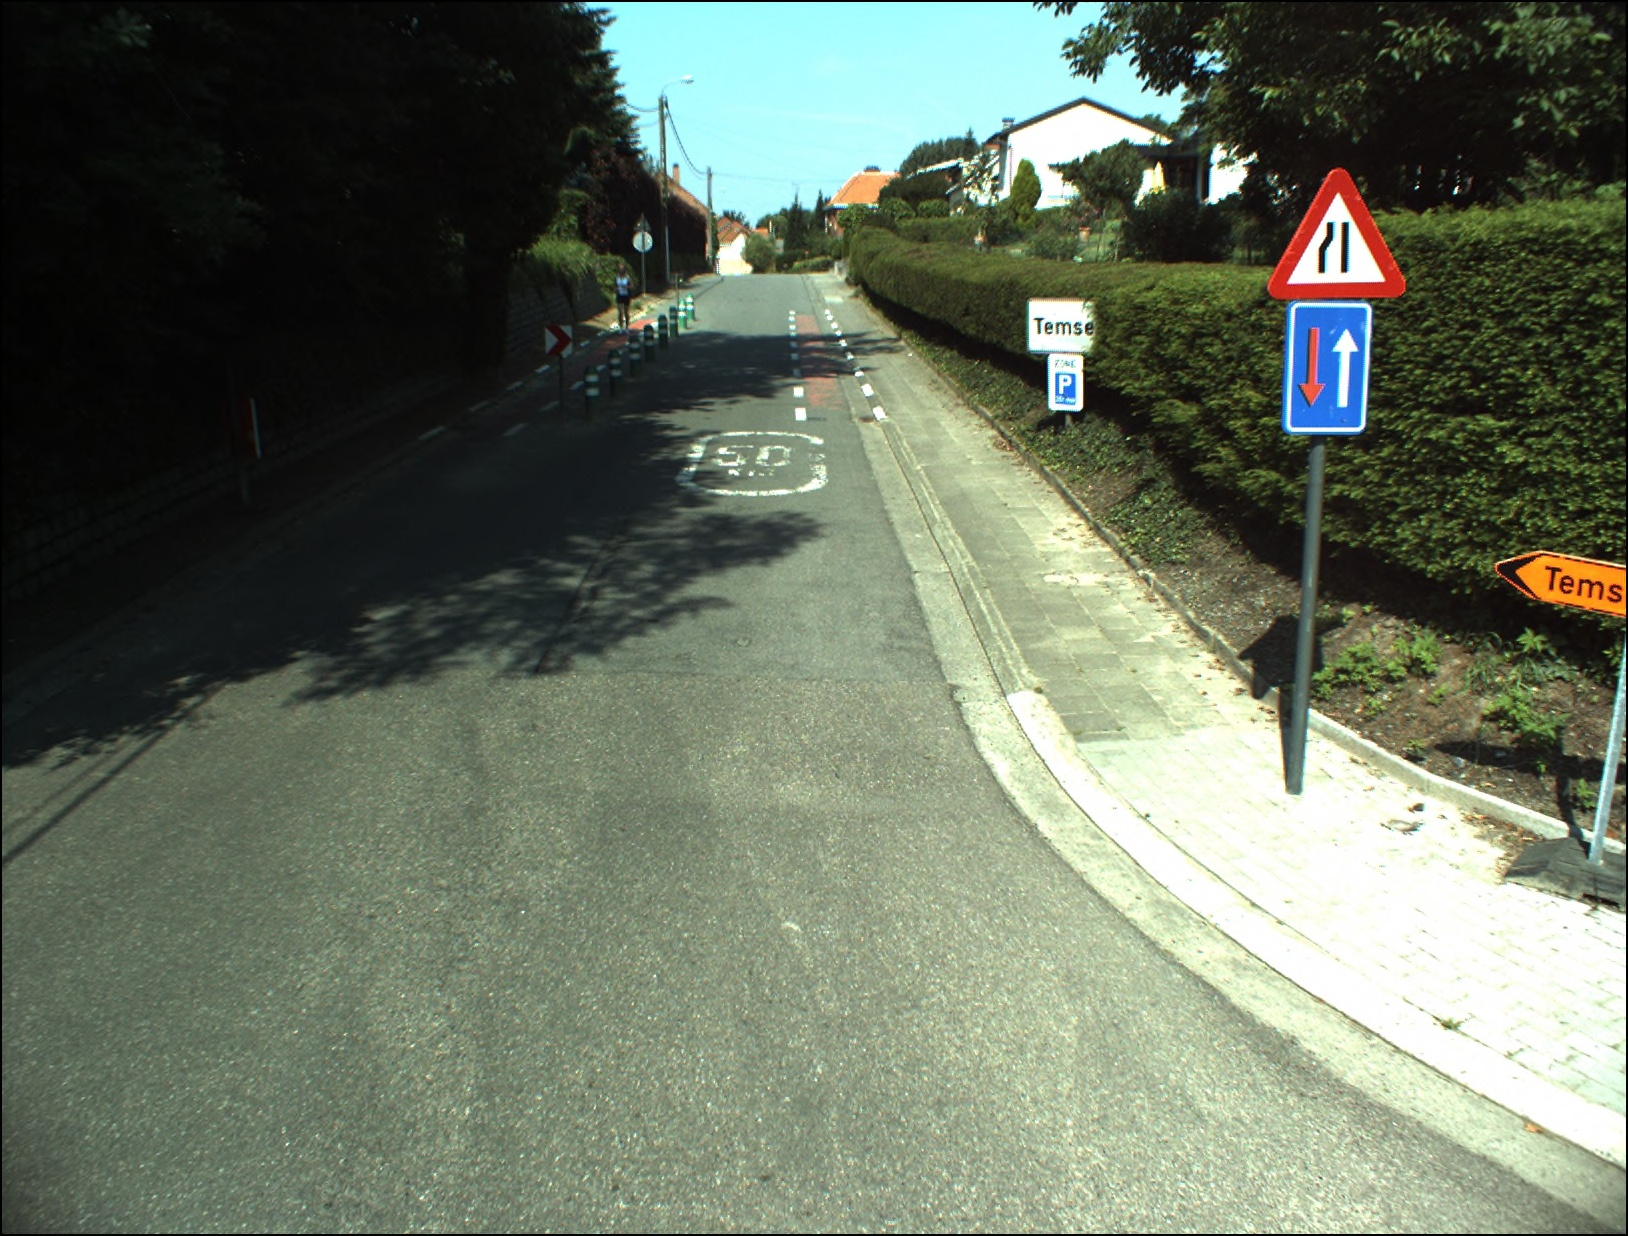parking: (1052, 367, 1079, 408)
roadnarrow1: (1293, 303, 1361, 428)
